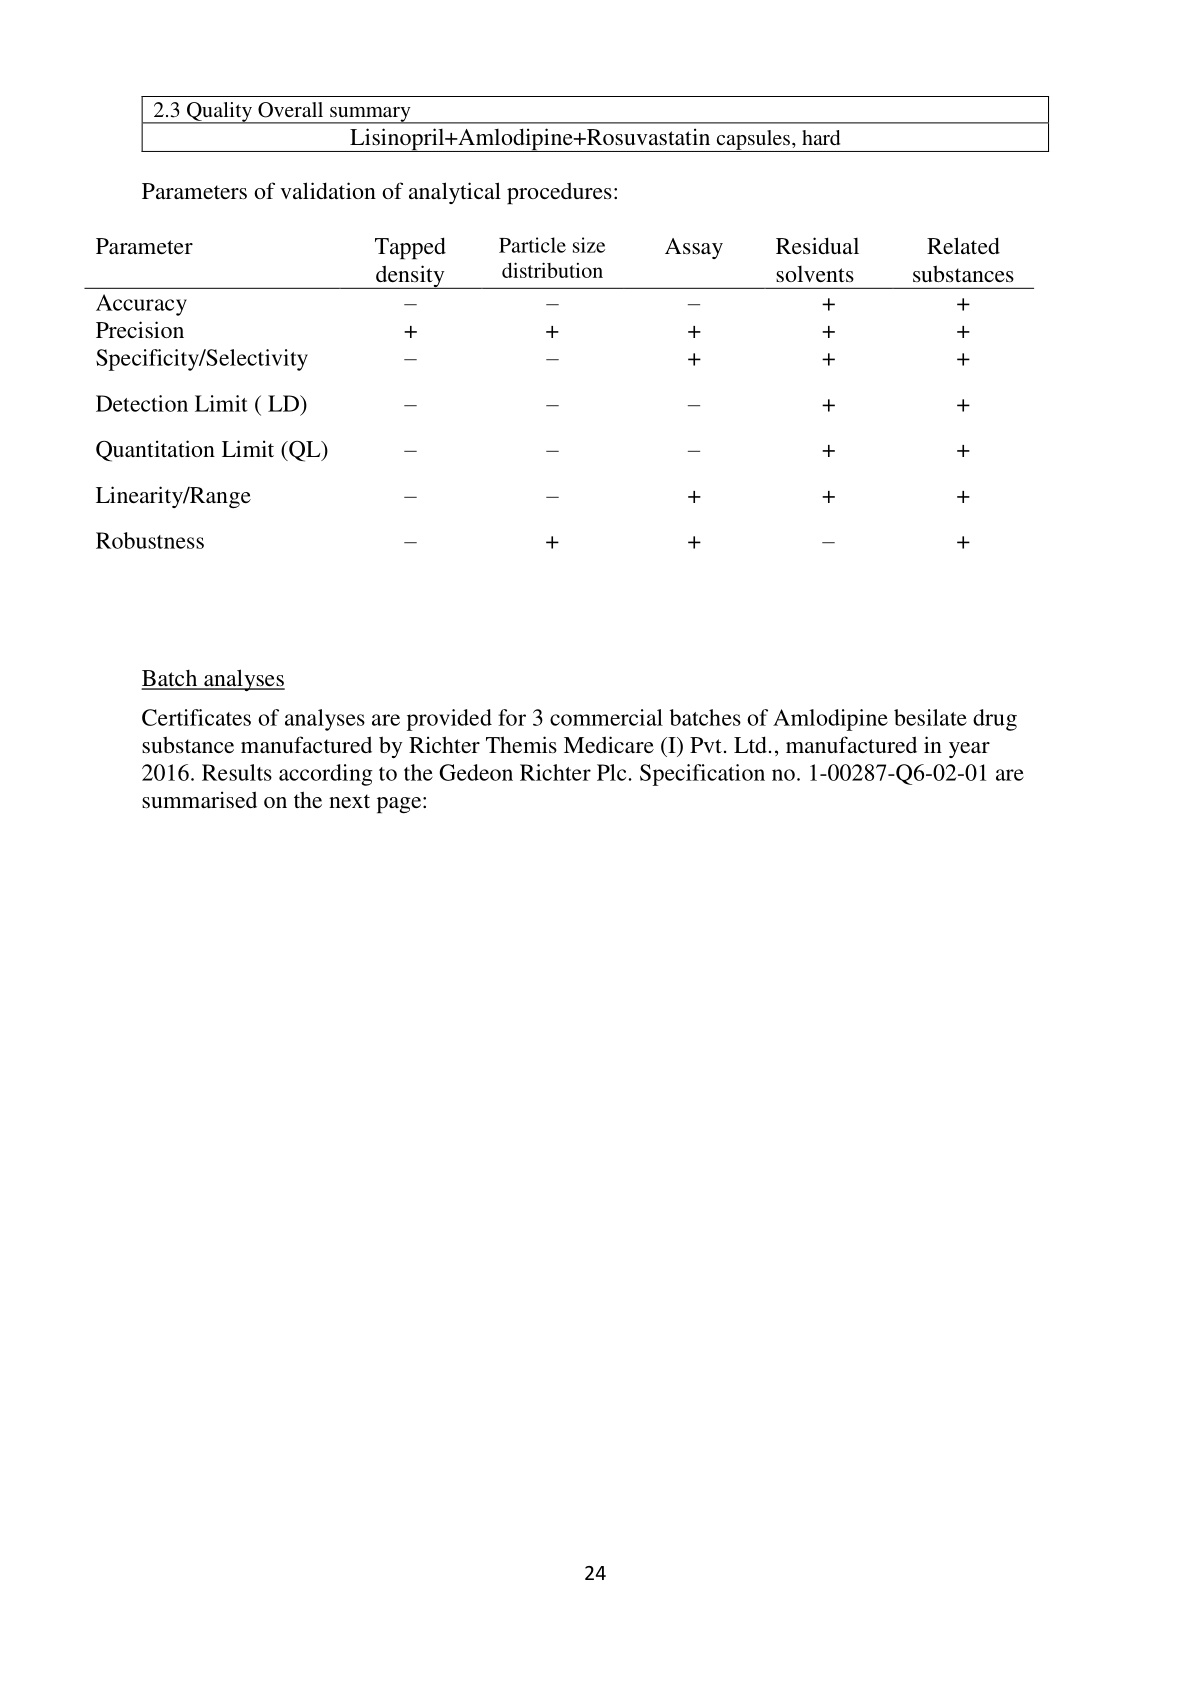full_lined: (140, 97, 1049, 152)
partial_lined: (82, 234, 1032, 553)
